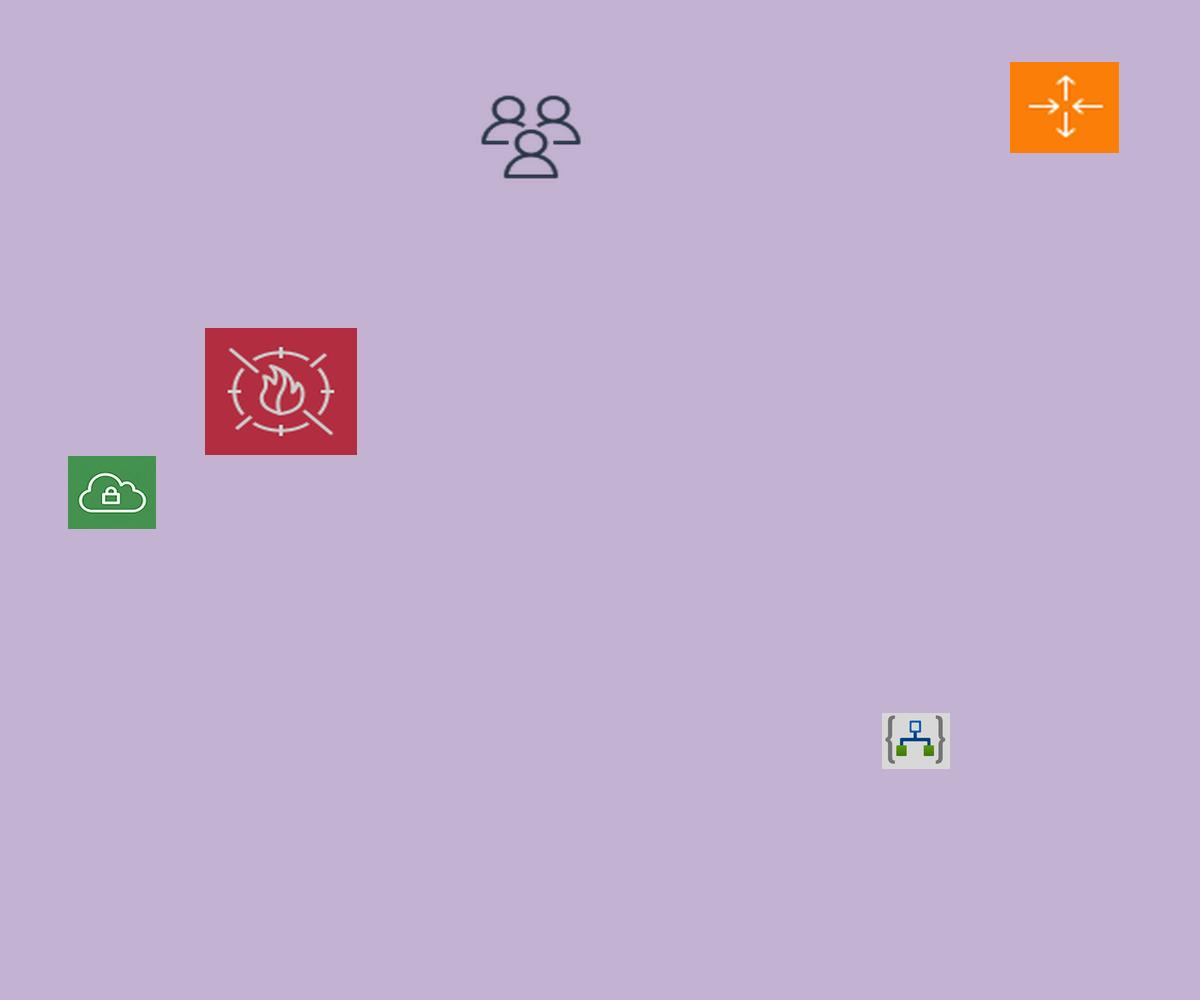AWS-Private_vpc: (68, 456, 156, 529)
AWS-Res_Users: (477, 92, 585, 182)
AWS-Scaling-group: (1010, 62, 1119, 153)
AWS-WAF: (205, 328, 357, 455)
Azure_integration-204-Logic-Apps: (882, 713, 950, 769)
